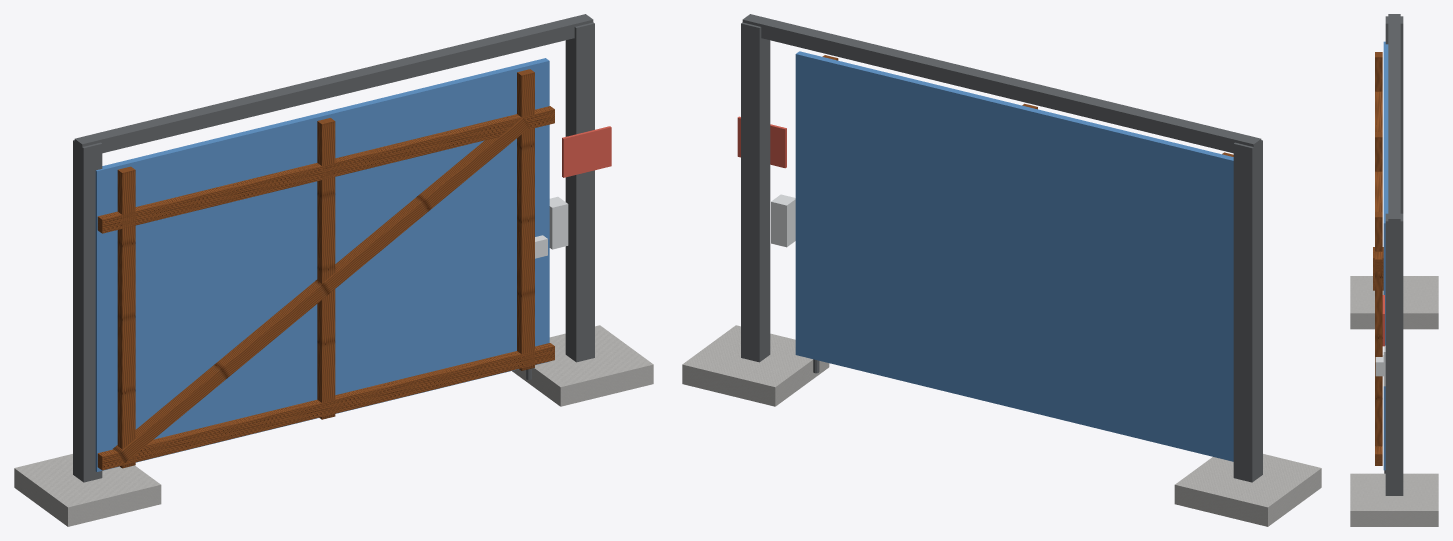
The model's file is demolition-and-site-clearance-demolition-and-site-clea-e91c5d01__35670.glb.
3 renders of one model, left to right at view 1: azimuth 30°, elevation 25°; view 2: azimuth 150°, elevation 25°; view 3: azimuth 270°, elevation 25°, orthographic. The views are drawn at different scales.
Parts seen in each view (by area): view 1: gate-leaf/blue, demolition-and-site-clearance-hoarding-gate-panel, gate-leaf/wood; view 2: gate-leaf/blue, demolition-and-site-clearance-hoarding-gate-panel; view 3: demolition-and-site-clearance-hoarding-gate-panel, gate-leaf/wood, gate-leaf/blue, gate-leaf/steel.
Boxes of the visible parts, box(x1,y1,x2,y2) form: gate-leaf/blue: box(95, 58, 549, 471); demolition-and-site-clearance-hoarding-gate-panel: box(14, 14, 653, 526); gate-leaf/wood: box(97, 69, 554, 470); gate-leaf/blue: box(795, 51, 1233, 461); demolition-and-site-clearance-hoarding-gate-panel: box(682, 14, 1321, 526); demolition-and-site-clearance-hoarding-gate-panel: box(1350, 14, 1438, 526); gate-leaf/wood: box(1373, 52, 1383, 465); gate-leaf/blue: box(1383, 41, 1388, 470); gate-leaf/steel: box(1375, 355, 1383, 376).
Bounding box in the file's own units: 4.4 × 2.56 × 0.6999.
6 materials, 2 textured.
